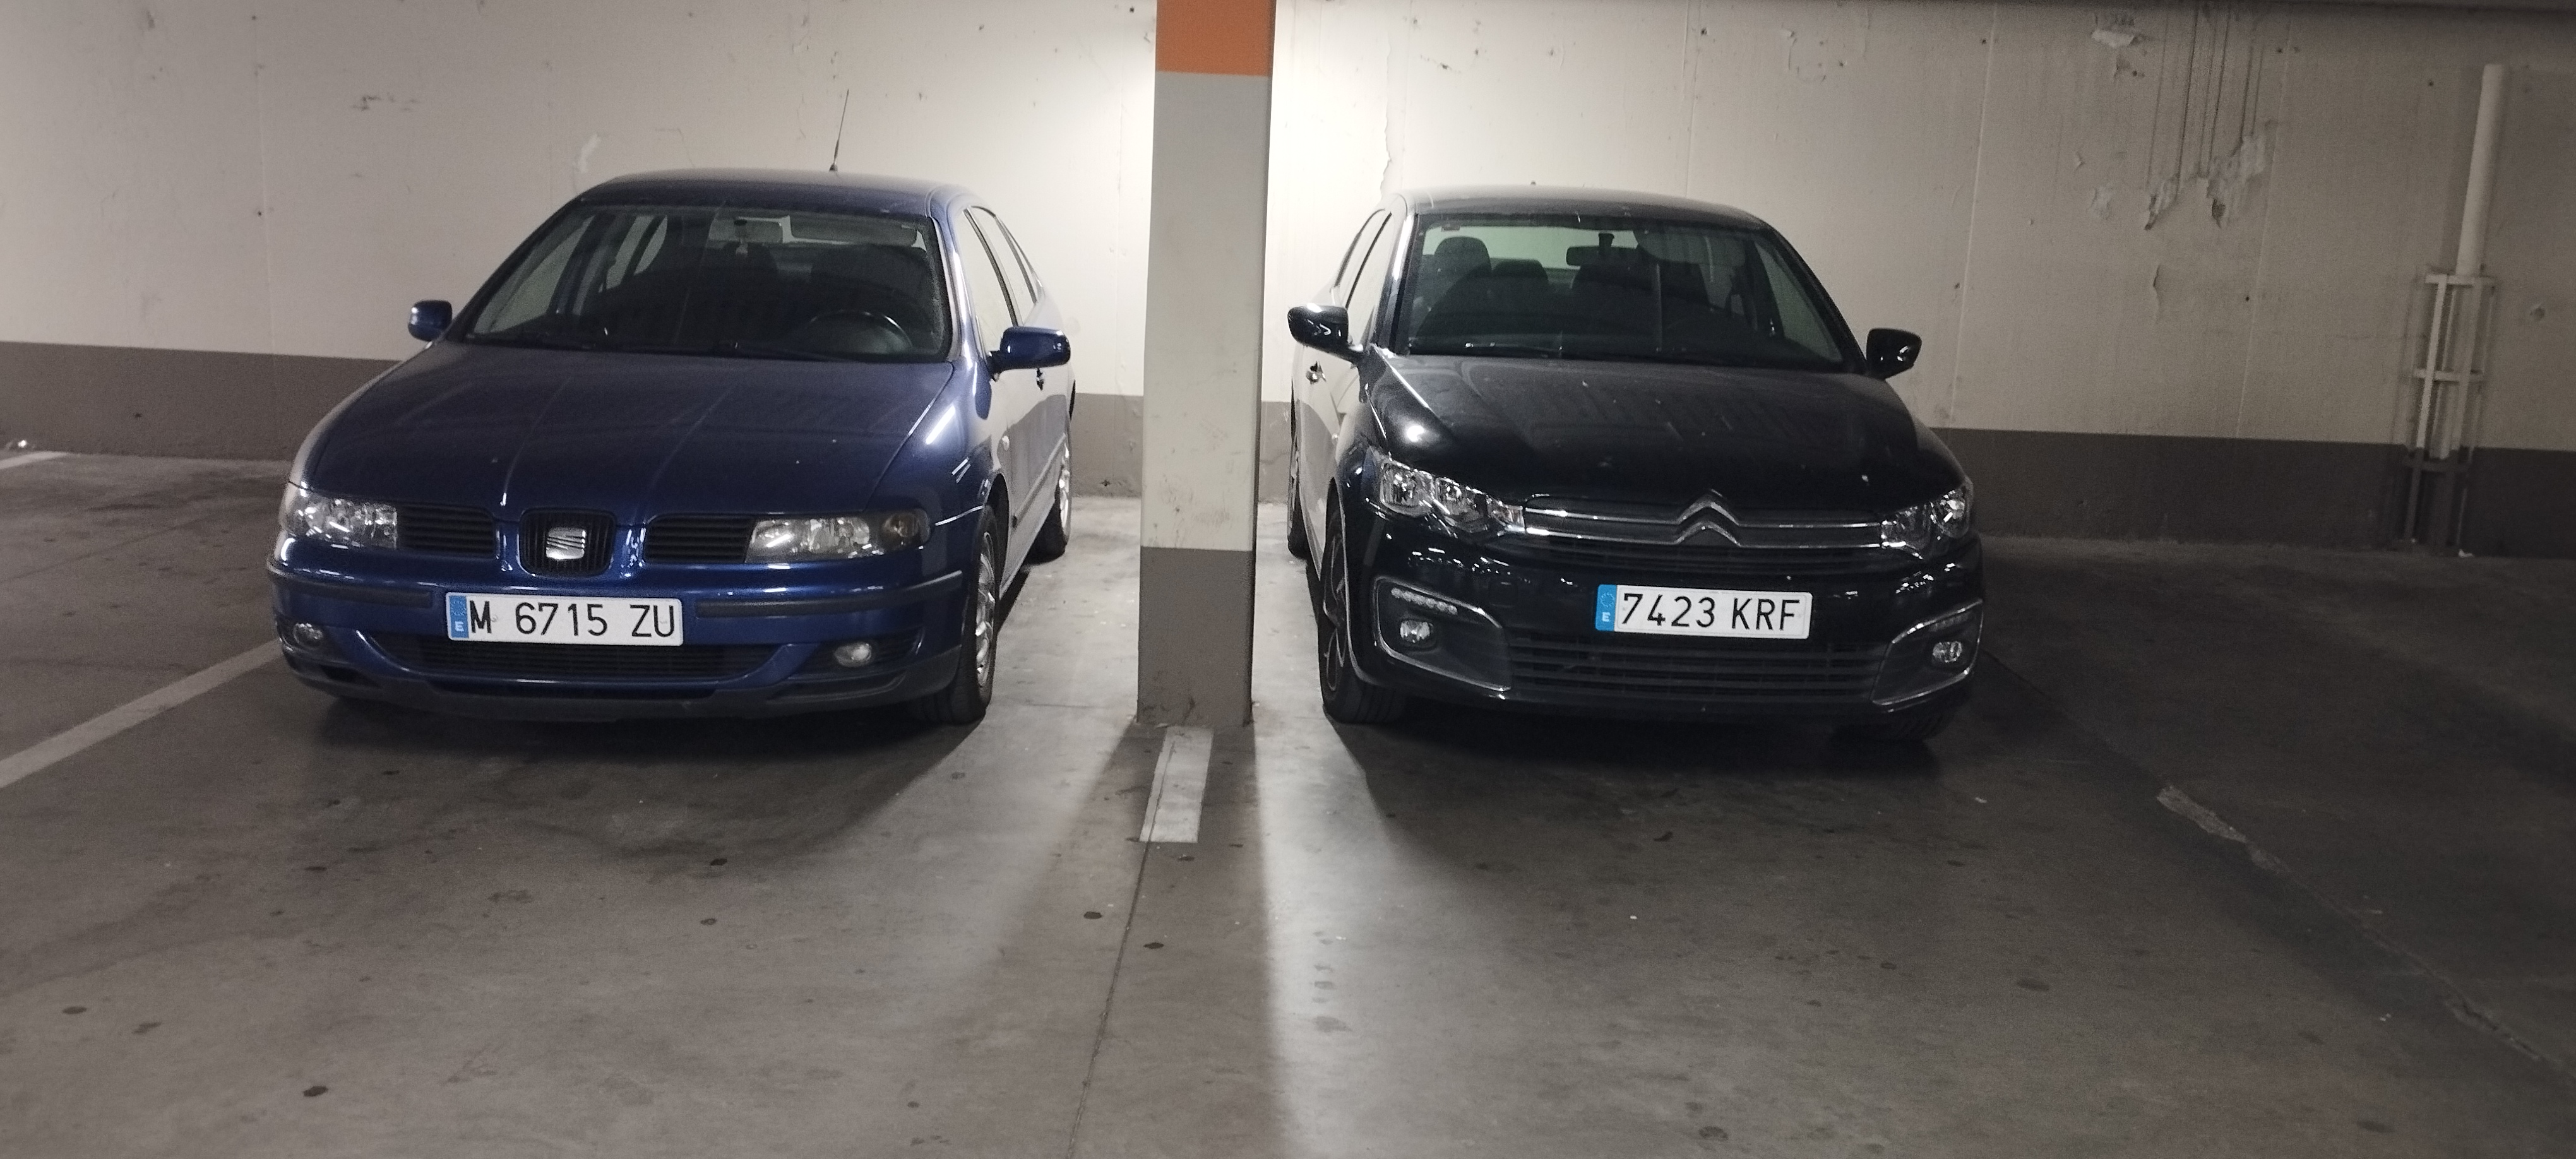Car: (272, 141, 1076, 722), (1289, 186, 1978, 743)
Plate: (447, 591, 681, 643), (1600, 579, 1810, 629)
